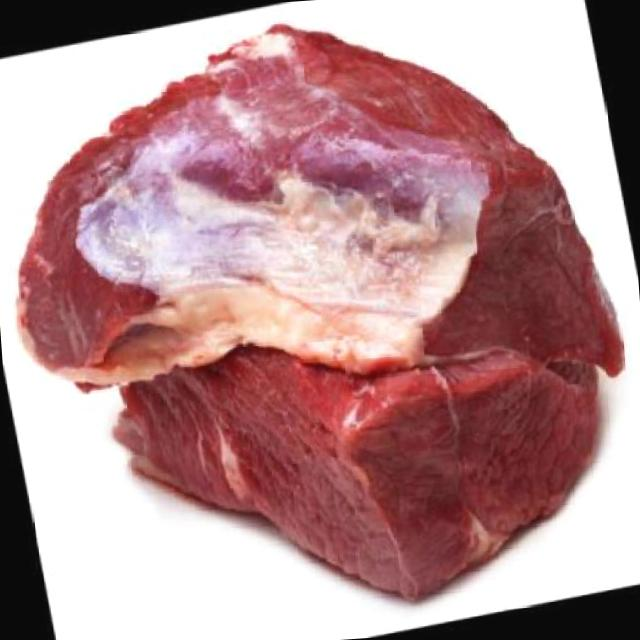beef: (0, 8, 640, 405), (99, 278, 626, 630)
